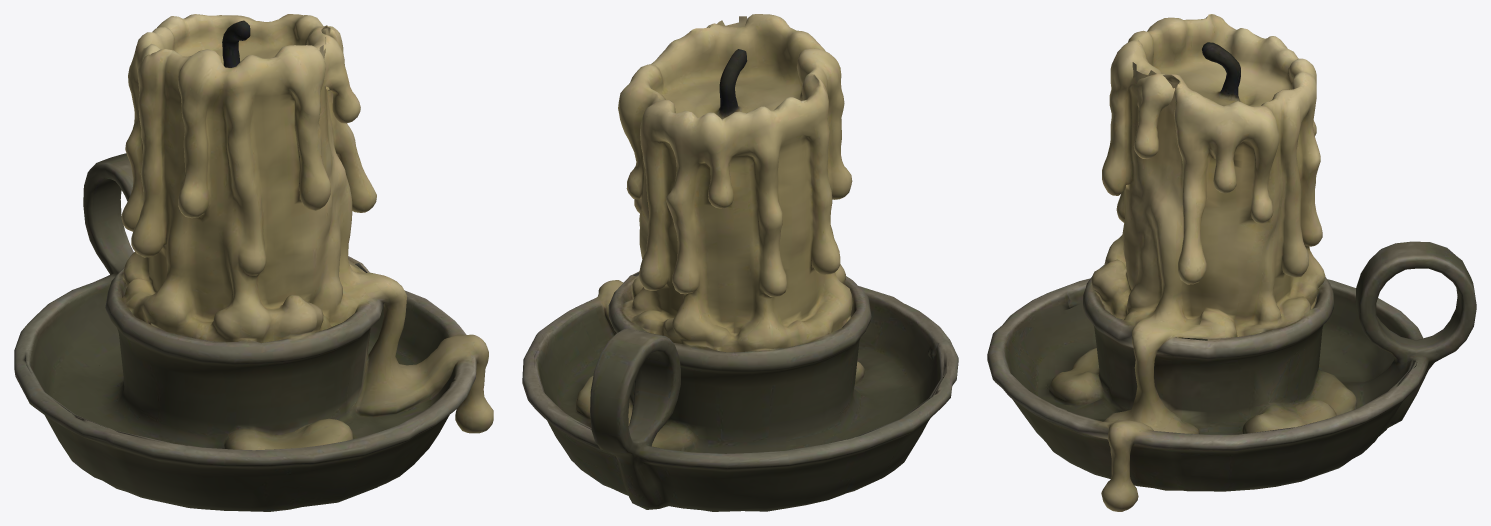
The model's file is candle.glb.
3 views of the same model, side by side, from view 1: azimuth 30°, elevation 25°; view 2: azimuth 150°, elevation 25°; view 3: azimuth 270°, elevation 25° (orthographic). The views are drawn at different scales.
Parts seen in each view (by area): view 1: tripo_node_5d692c73-b1d1-4984-87b0-47ba1c268a65; view 2: tripo_node_5d692c73-b1d1-4984-87b0-47ba1c268a65; view 3: tripo_node_5d692c73-b1d1-4984-87b0-47ba1c268a65.
Part boxes in pixels (box(x1,y1,x2,y2)): tripo_node_5d692c73-b1d1-4984-87b0-47ba1c268a65: box(14, 14, 493, 511); tripo_node_5d692c73-b1d1-4984-87b0-47ba1c268a65: box(522, 14, 958, 511); tripo_node_5d692c73-b1d1-4984-87b0-47ba1c268a65: box(987, 14, 1476, 511).
Size of the model in its own units: 0.1582 by 0.16 by 0.1825.
Materials: 1 (1 with a texture image).
